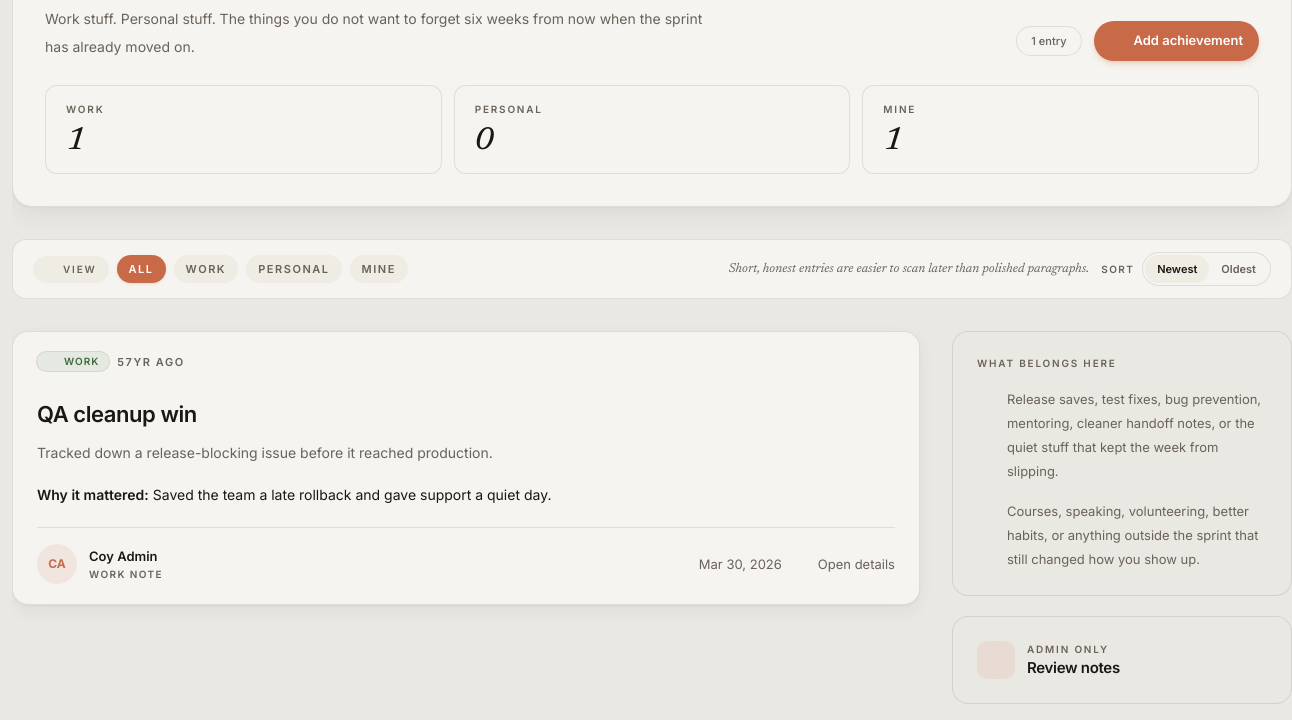
Test: AchievementsScreen › expands the admin review panel for admins
This screenshot has width=1292, height=720.
(page scrolled)
Expected: the number of headings "QA cleanup win" is 1, x1=37 y1=401 x2=197 y2=427
Click the button "Admin only Review notes": (1122, 660) x1=977 y1=641 x2=1267 y2=679
(page scrolled)
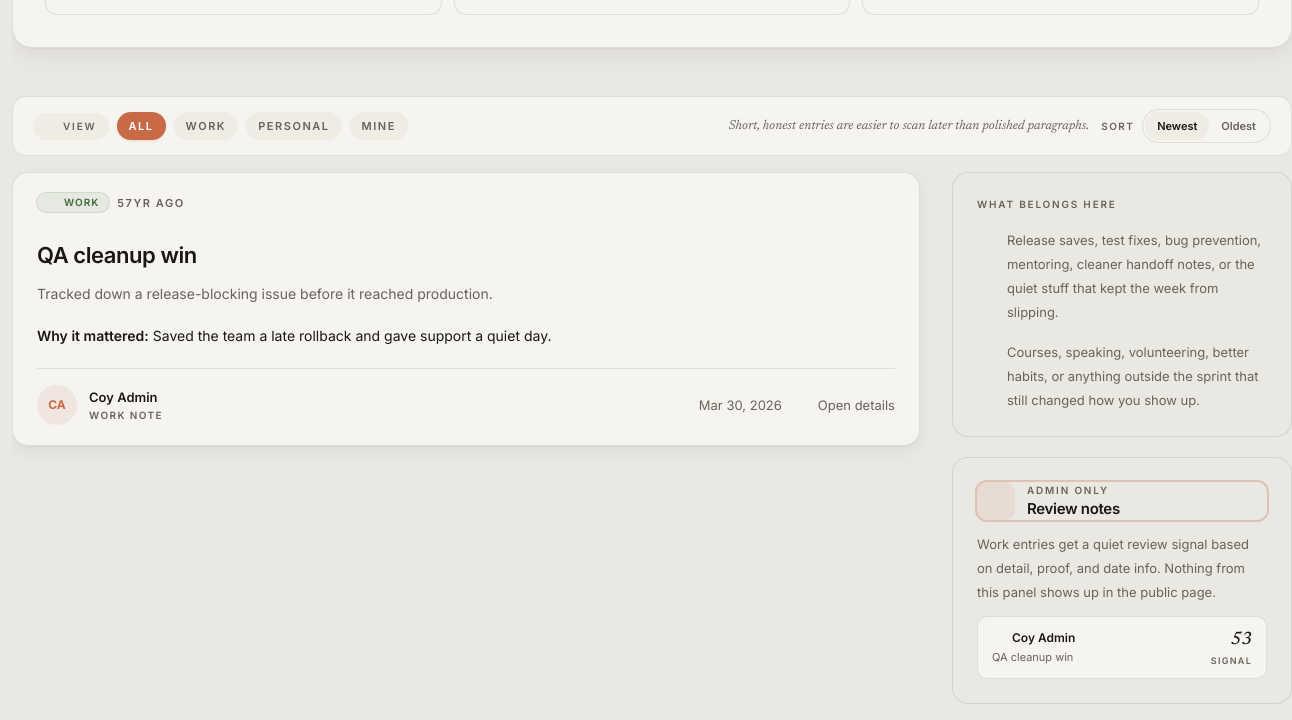
Expected: the number of headings "QA cleanup win" is 2, x1=37 y1=242 x2=197 y2=268; x1=992 y1=649 x2=1075 y2=666
Expected: the text "Signal" is shown, x1=1211 y1=654 x2=1252 y2=668
